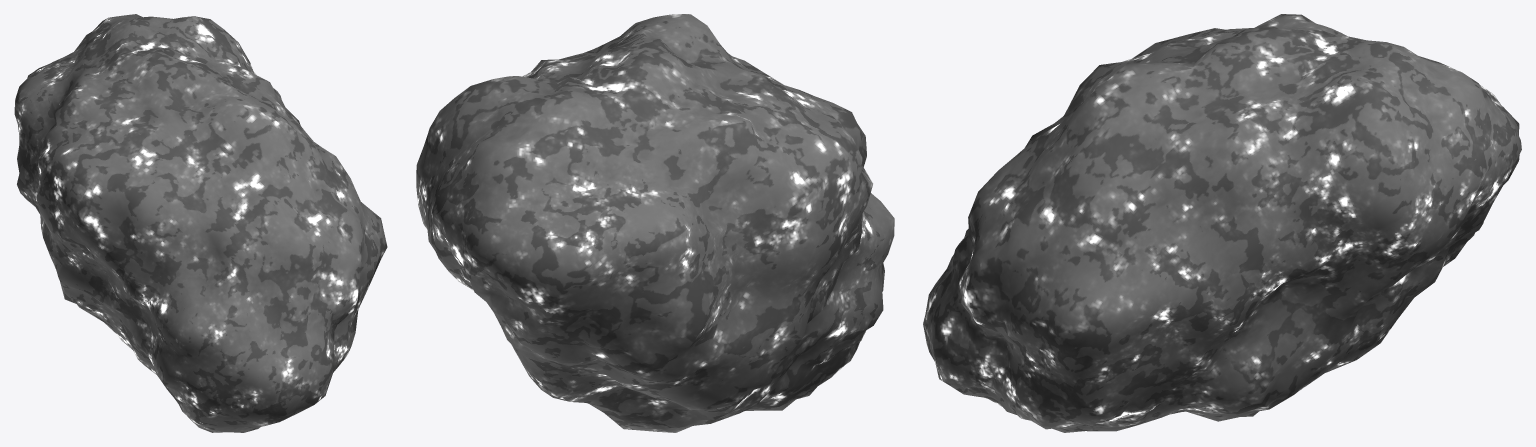
File: SM_Prop_Asteroid_01.fbx
The picture shows the model from 3 angles, left to right: view 1: azimuth 30°, elevation 25°; view 2: azimuth 150°, elevation 25°; view 3: azimuth 270°, elevation 25°; orthographic projection. The views are drawn at different scales.
Parts seen in each view (by area): view 1: SM_Prop_Asteroid_01; view 2: SM_Prop_Asteroid_01; view 3: SM_Prop_Asteroid_01.
Part boxes in pixels (<box>): SM_Prop_Asteroid_01: <box>14,14,387,432</box>; SM_Prop_Asteroid_01: <box>416,14,894,432</box>; SM_Prop_Asteroid_01: <box>923,14,1521,432</box>.
Bounding box in the file's own units: 485 × 523 × 710.
